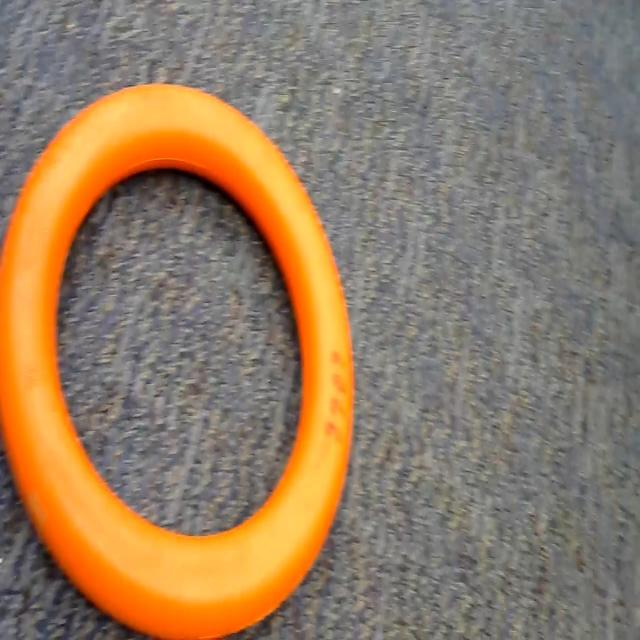note: (0, 91, 358, 640)
